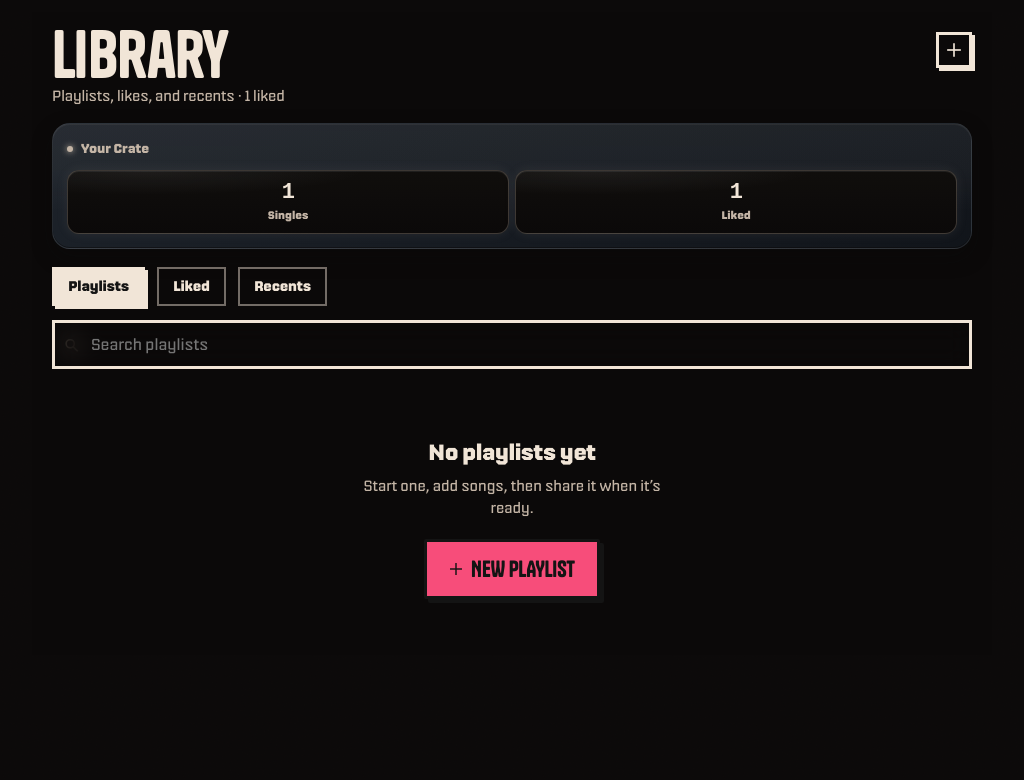
Test: Library screen › recents tab lists profile history in play order
Click the tab "Recents" at (282, 287), box [238,267,327,306]
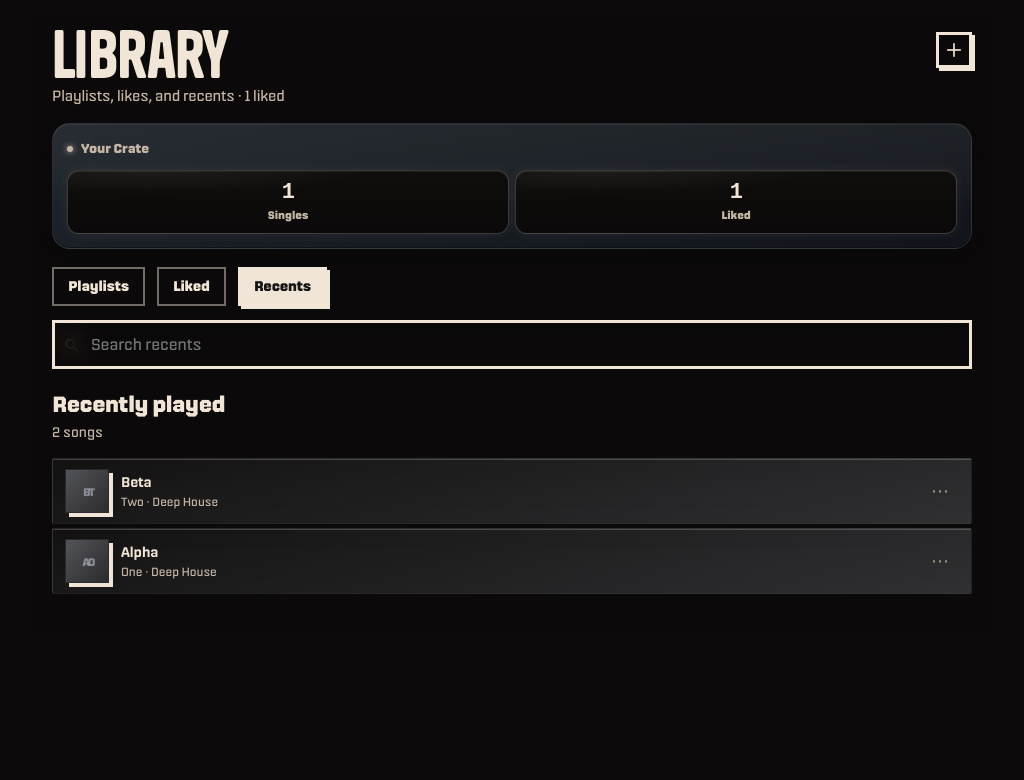
Now the text "Recently played" is shown, box [52,390,225,418]
Now the text "Beta" is shown, box [121,473,152,491]
Now the text "Alpha" is shown, box [121,543,158,561]
